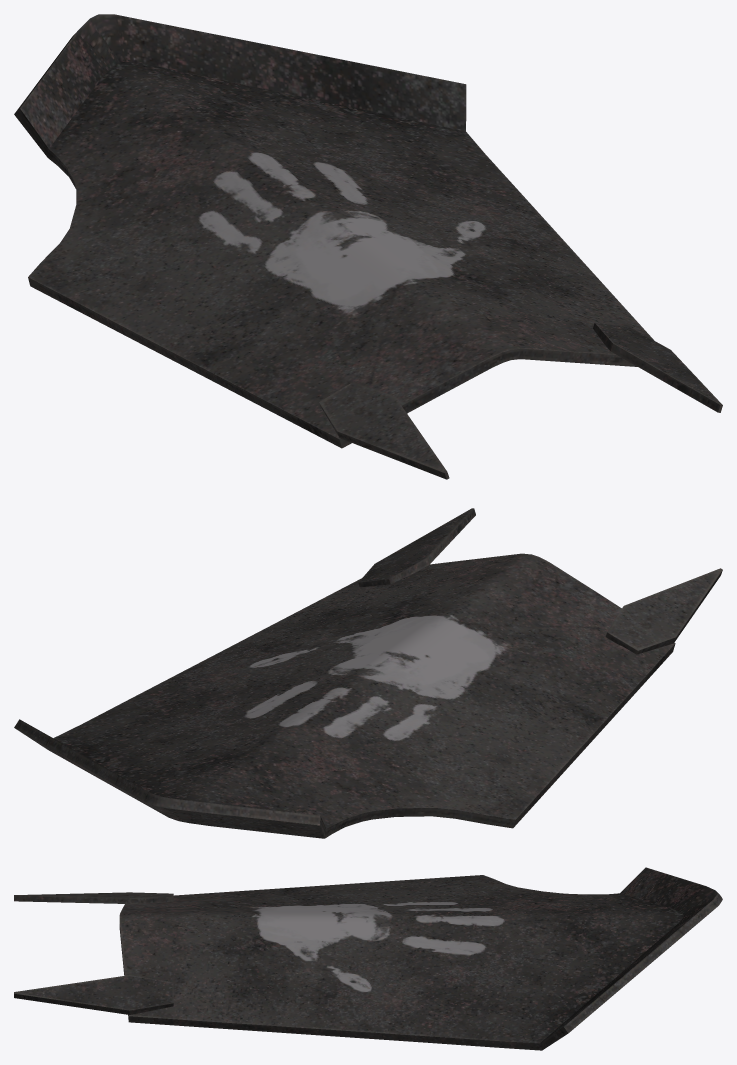
Rendered from wm_isengard_shield_a01.fbx.
The picture shows the model from 3 angles, top to bottom: view 1: azimuth 30°, elevation 25°; view 2: azimuth 150°, elevation 25°; view 3: azimuth 270°, elevation 25°; orthographic projection. The views are drawn at different scales.
Visible parts, largest first — view 1: wm_isengard_shield_a01; view 2: wm_isengard_shield_a01; view 3: wm_isengard_shield_a01.
Boxes of the visible parts, left/top/right/bottom form: wm_isengard_shield_a01: left=14, top=14, right=722, bottom=479; wm_isengard_shield_a01: left=14, top=508, right=722, bottom=838; wm_isengard_shield_a01: left=14, top=867, right=722, bottom=1050.
Bounding box in the file's own units: 0.5771 × 0.9831 × 0.1267.
1 material, 1 textured.
